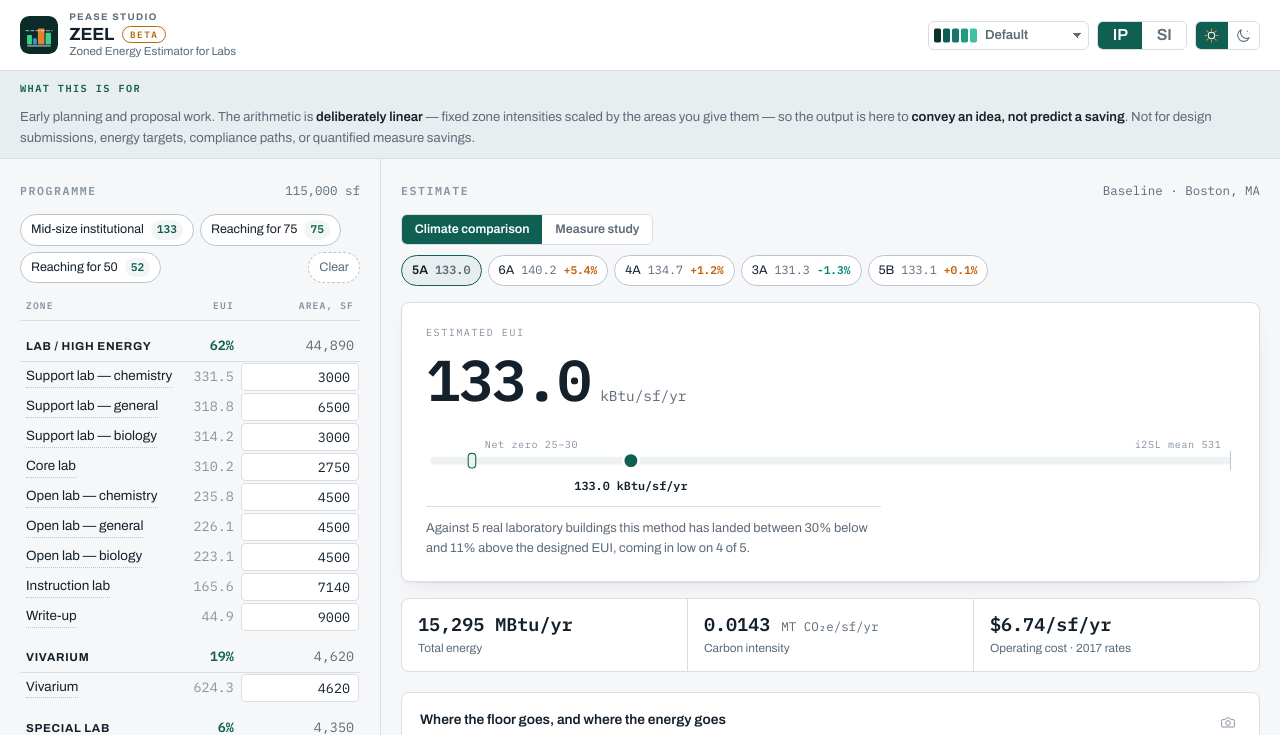
the worked examples › swap the whole programme when pressed
This screenshot has width=1280, height=735.
Click the button "Reaching for 50 52": (91, 267) [20,252,161,283]
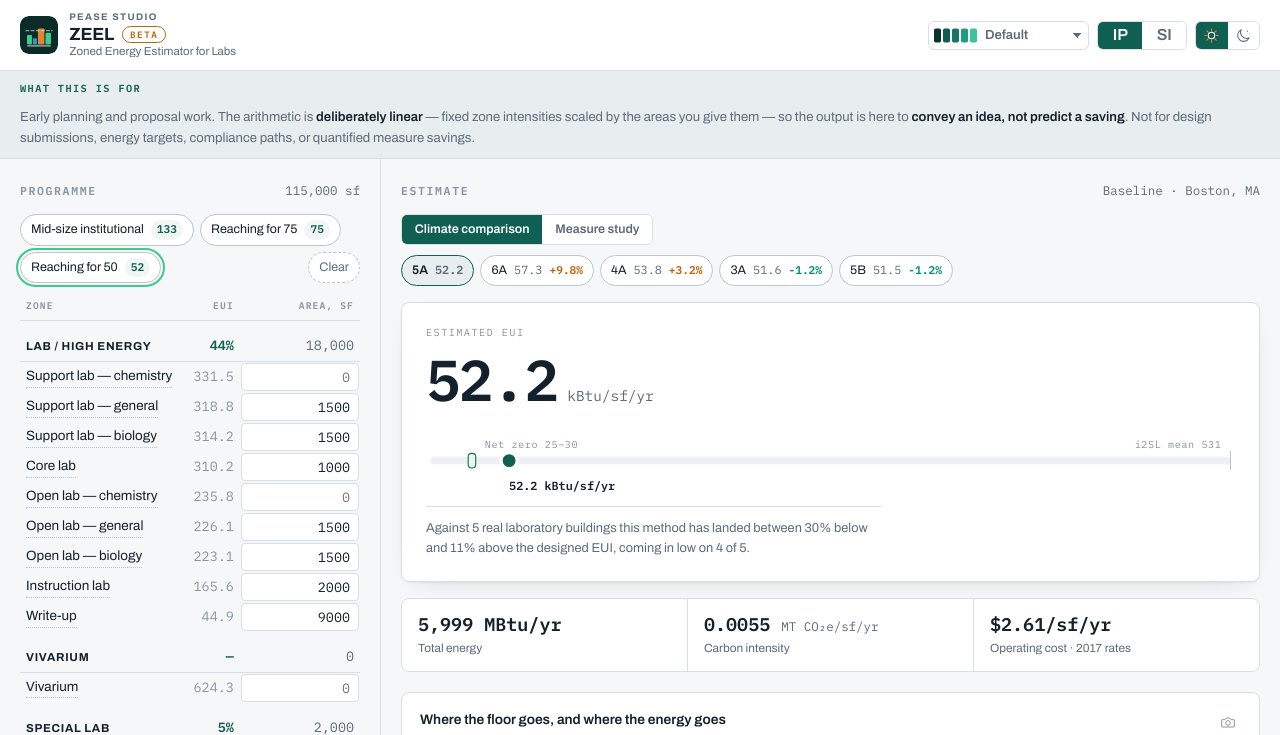
Expected: the element with class "headline__value" shows "52.2", [426,342,557,417]
